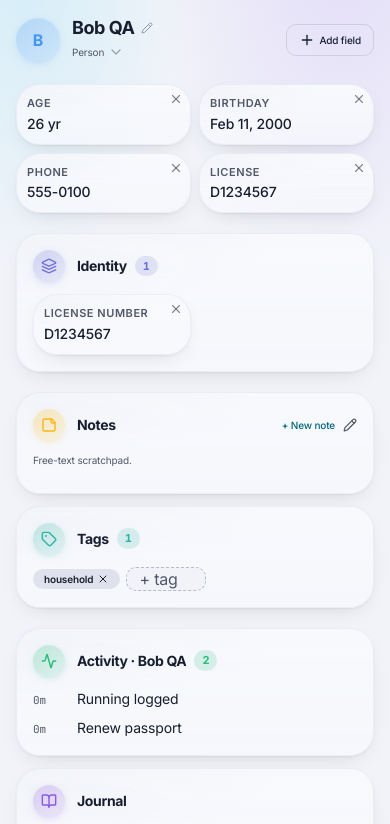
Scenario: identity: name and type › refuses a name another profile already answers to — no write leaves
Expected: the text "Bob QA" is shown, [72,17,134,40]
Click the button with test id "button-edit-info-name" at [146, 28], box [138,20,154,36]
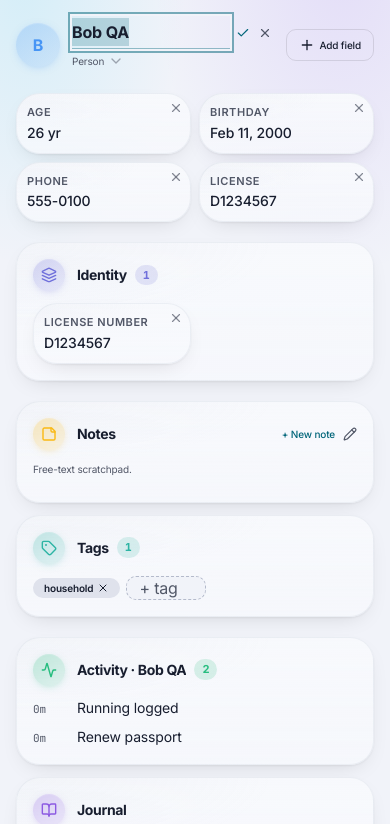
Replace the text in the field with test id "info-name" with "Jane Doe" at [151, 32], box [72,16,230,49]
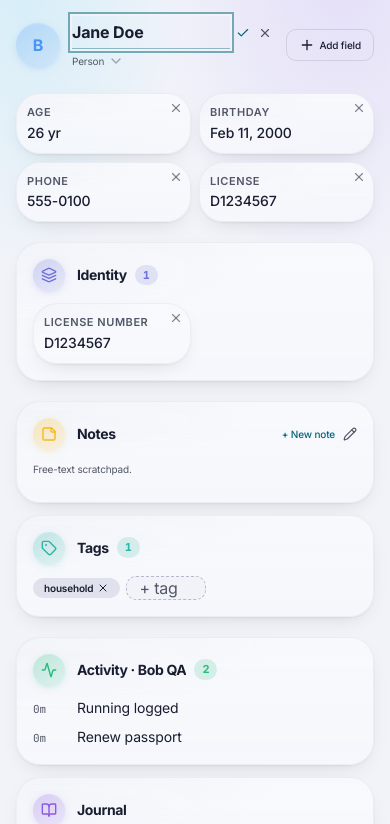
Press Enter in the field with test id "info-name", box [72,16,230,49]
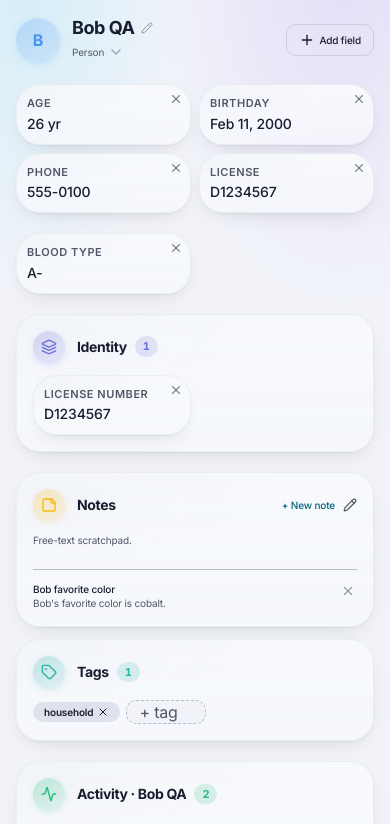
Now the button with test id "button-edit-info-name" is shown, box [138,20,154,36]
